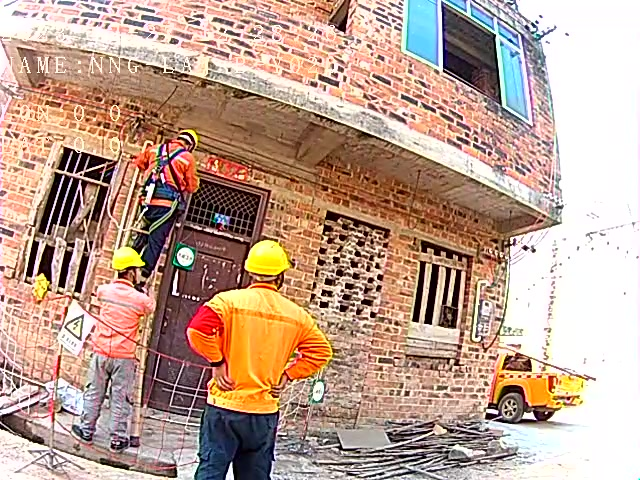badge: (187, 301, 224, 337)
downcloth: (85, 361, 137, 440)
downsuit: (192, 415, 277, 480), (143, 206, 174, 271)
halt: (244, 239, 290, 288), (109, 246, 144, 281), (173, 130, 199, 153)
hand: (211, 365, 232, 388), (274, 375, 286, 395)
intosign: (310, 381, 325, 402)
person: (181, 238, 334, 480), (76, 241, 155, 447), (130, 128, 203, 277)
safebelt: (141, 139, 191, 217)
worksign: (175, 241, 197, 271)
yupsuit: (185, 285, 336, 410), (93, 277, 156, 353), (133, 139, 199, 202)
